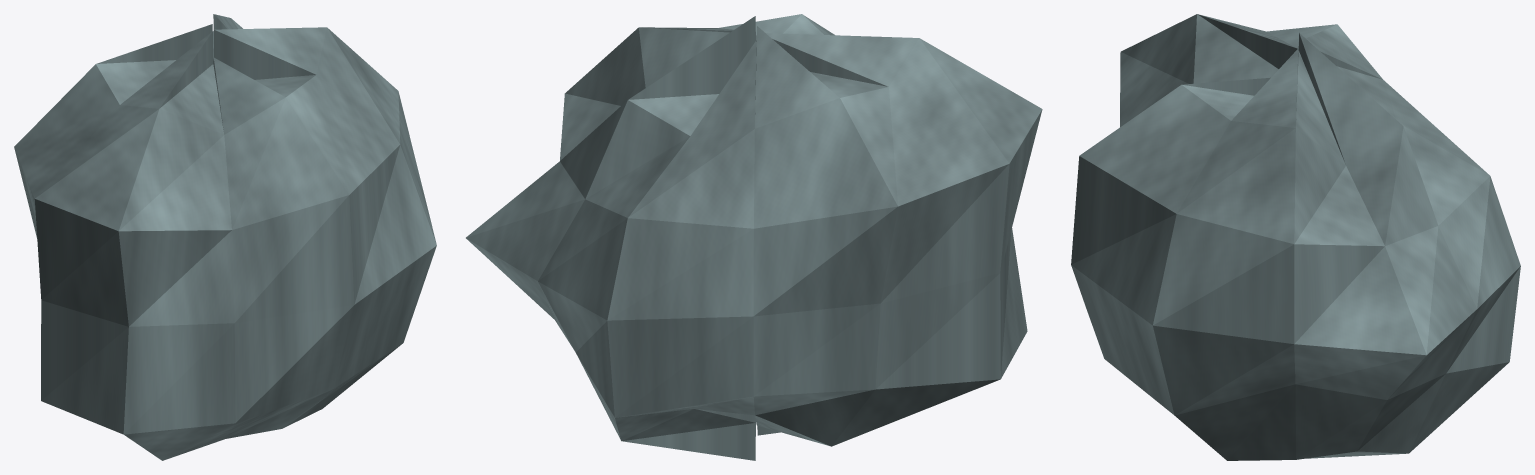
File: coastal_rock_02.glb
3 renders of one model, left to right at view 1: azimuth 30°, elevation 25°; view 2: azimuth 150°, elevation 25°; view 3: azimuth 270°, elevation 25°, orthographic. The views are drawn at different scales.
Parts seen in each view (by area): view 1: rock; view 2: rock; view 3: rock.
Boxes of the visible parts, x1=… form: rock: x1=14, y1=14, x2=436, y2=460; rock: x1=466, y1=14, x2=1042, y2=460; rock: x1=1071, y1=14, x2=1520, y2=460.
Size of the model in its own units: 7.47 by 7.14 by 6.83.
Materials: 1 (1 with a texture image).
